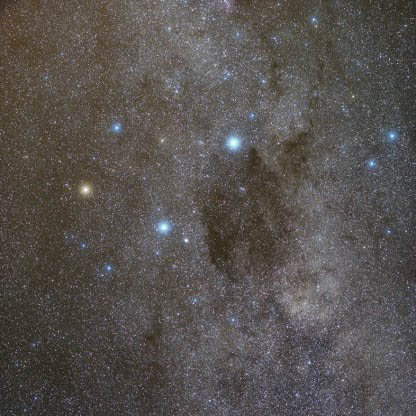Southern Cross: (220, 132, 246, 158), (153, 214, 178, 238), (76, 178, 94, 203), (107, 115, 127, 137)
